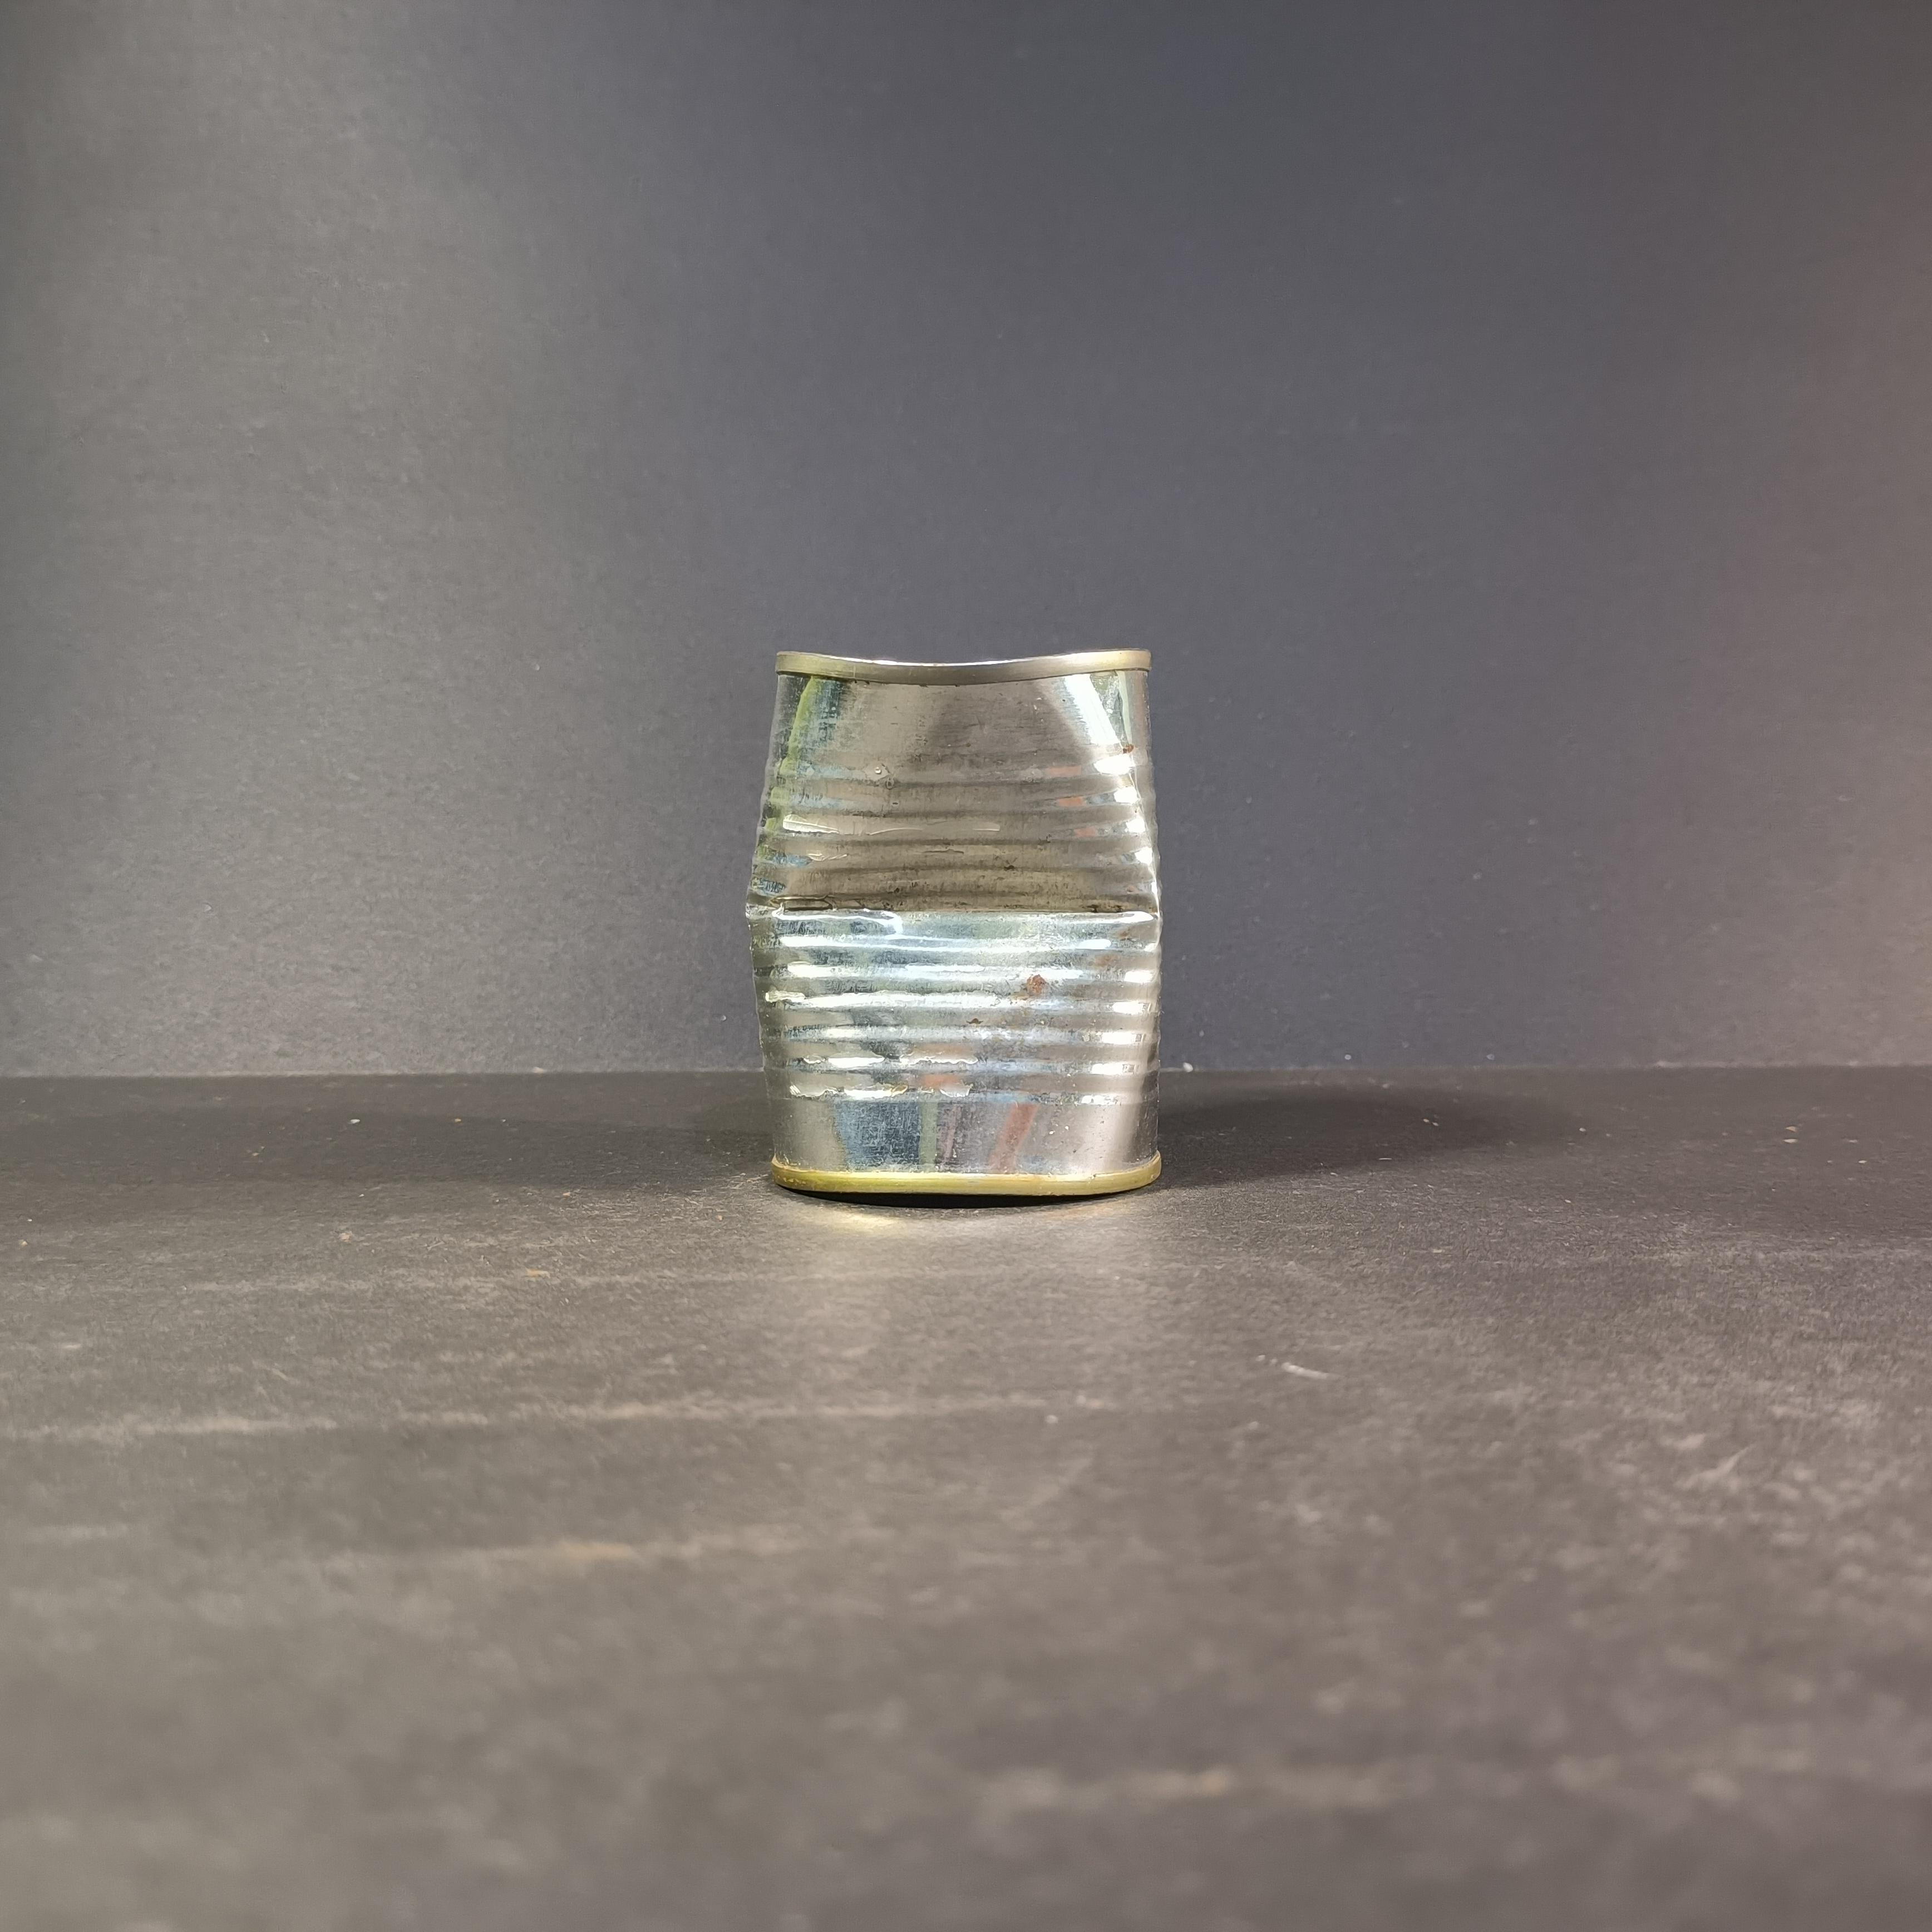Dented: (729, 602, 1200, 1233)
